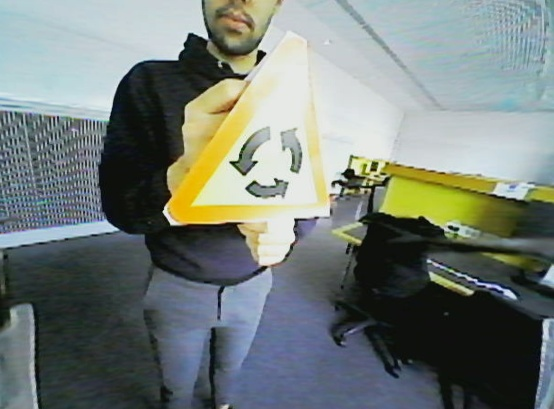roundabout_warning: (161, 29, 344, 227)
